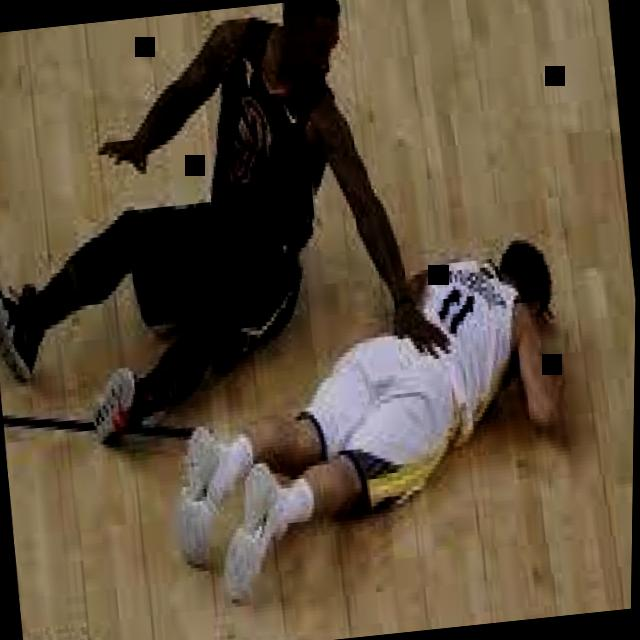Fall-Detected: (142, 204, 601, 608)
